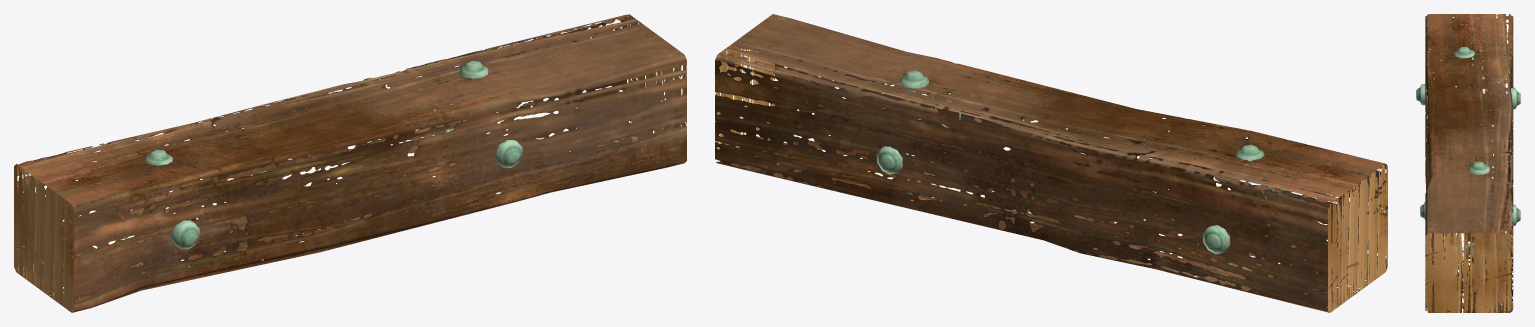
3 renders of one model, left to right at view 1: azimuth 30°, elevation 25°; view 2: azimuth 150°, elevation 25°; view 3: azimuth 270°, elevation 25°, orthographic. The views are drawn at different scales.
Visible parts, largest first — view 1: SM_BB_T4_Beam_Thin_Med_Horizontal_LOD0; view 2: SM_BB_T4_Beam_Thin_Med_Horizontal_LOD0; view 3: SM_BB_T4_Beam_Thin_Med_Horizontal_LOD0.
Boxes of the visible parts, bbox=[...] form: SM_BB_T4_Beam_Thin_Med_Horizontal_LOD0: bbox=[14, 14, 686, 312]; SM_BB_T4_Beam_Thin_Med_Horizontal_LOD0: bbox=[715, 14, 1387, 312]; SM_BB_T4_Beam_Thin_Med_Horizontal_LOD0: bbox=[1416, 14, 1520, 312].
Bounding box in the file's own units: 1.5 × 0.3031 × 0.3016.
2 materials, 2 textured.
